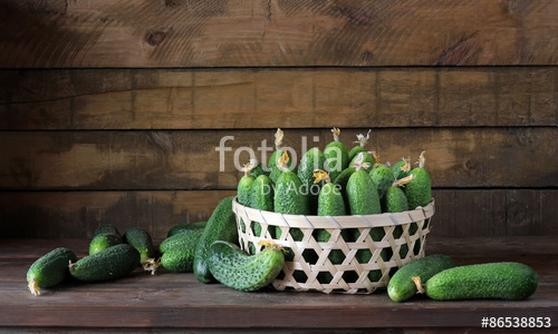cucumber: (427, 261, 540, 300), (207, 241, 287, 291)
